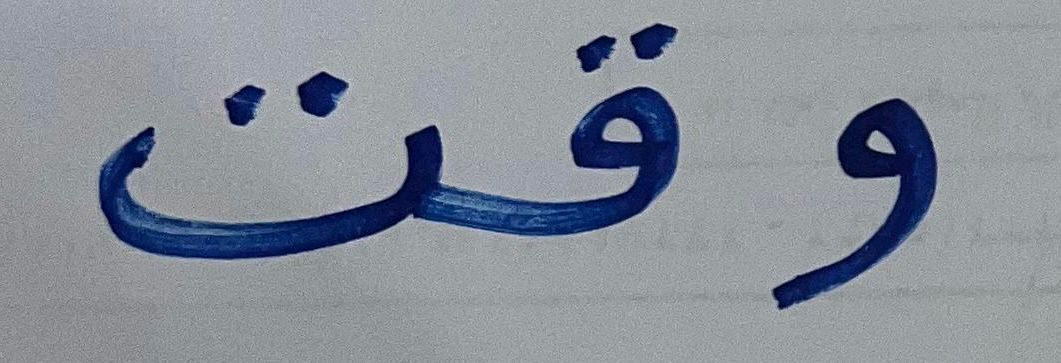qaf: (492, 13, 712, 280)
teh: (76, 25, 483, 285)
waw: (721, 45, 992, 326)
